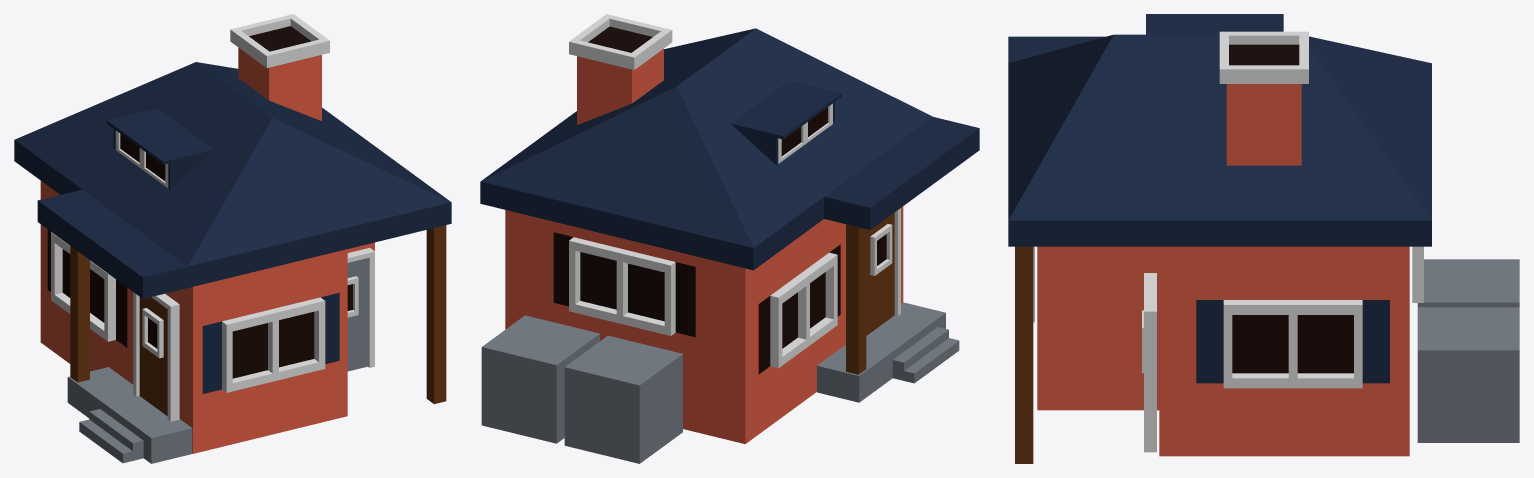
The model's file is 2025-11-25-Boswell-BaseHouse-v001.fbx.
3 views of the same model, side by side, from view 1: azimuth 30°, elevation 25°; view 2: azimuth 150°, elevation 25°; view 3: azimuth 270°, elevation 25° (orthographic). The views are drawn at different scales.
Parts seen in each view (by area): view 1: Cube.006; view 2: Cube.006; view 3: Cube.006.
Part boxes in pixels (box(x1,y1,x2,y2)): Cube.006: box(14, 14, 451, 463); Cube.006: box(480, 14, 979, 463); Cube.006: box(1008, 14, 1519, 463).
Bounding box in the file's own units: 400 × 380 × 469.
